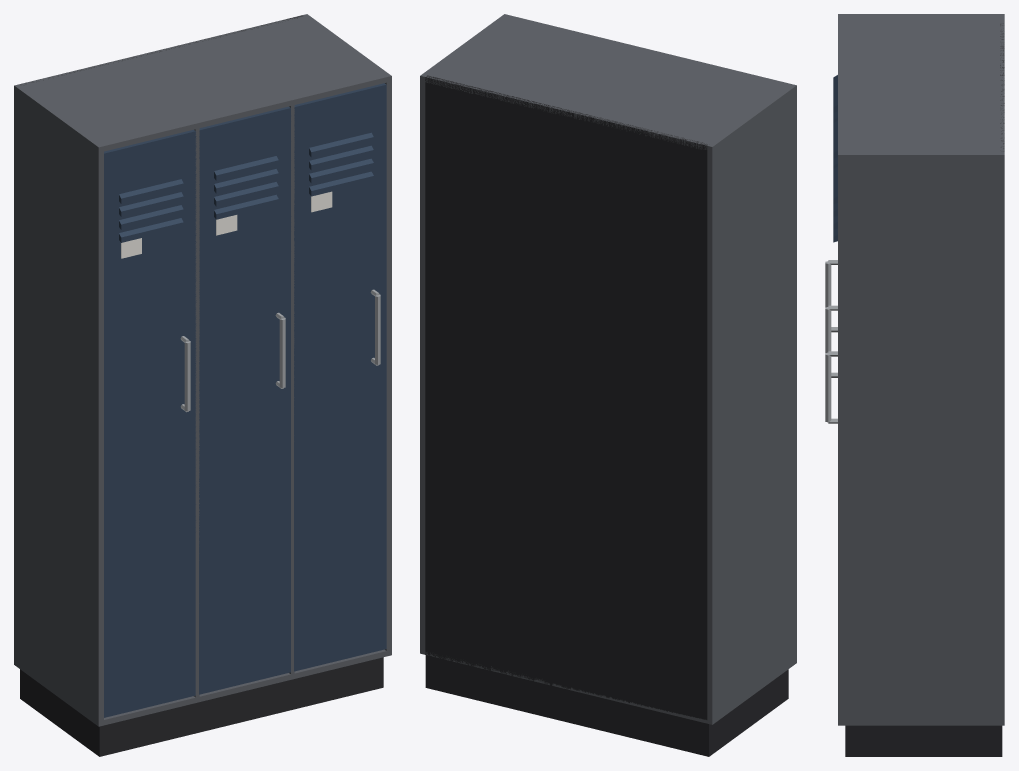
File: FN_Locker_Bank.obj
3 renders of one model, left to right at view 1: azimuth 30°, elevation 25°; view 2: azimuth 150°, elevation 25°; view 3: azimuth 270°, elevation 25°, orthographic.
Parts seen in each view (by area): view 1: FN_Locker_Bank; view 2: FN_Locker_Bank; view 3: FN_Locker_Bank.
Part boxes in pixels (bbox=[...]): FN_Locker_Bank: bbox=[14, 14, 391, 756]; FN_Locker_Bank: bbox=[420, 14, 796, 756]; FN_Locker_Bank: bbox=[825, 14, 1004, 756].
Size of the model in its own units: 0.9 by 1.8 by 0.4838.
1 material, 1 textured.
